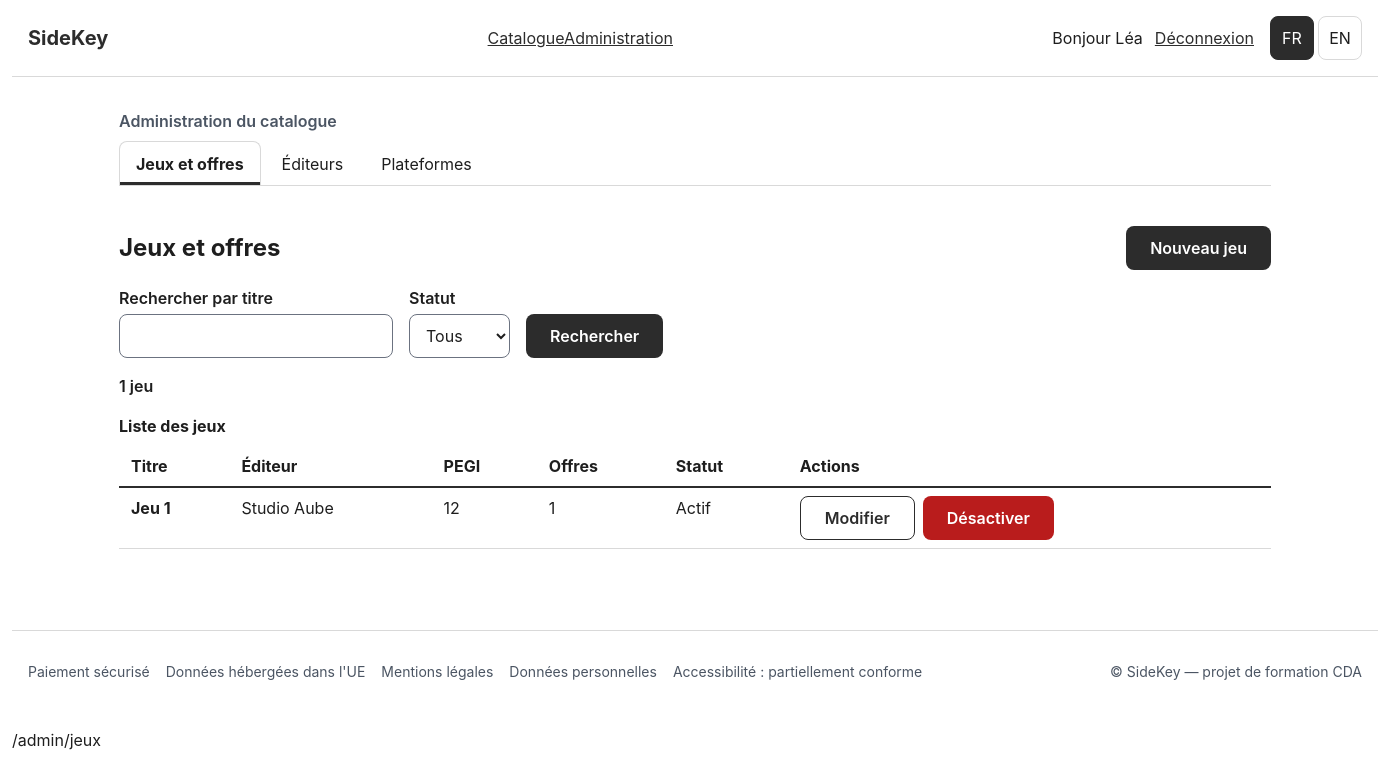
Scenario: écran E12 — liste des jeux (US-50) › cherche par titre et statut, reflète la recherche dans l’URL et la transmet à l’API
This screenshot has width=1378, height=768.
Expected: the table is shown, [119,414,1271,549]
Type "  étoile " into the search field labelled "Rechercher par titre".
click(256, 336); type("  étoile ")  # box [119,314,393,358]
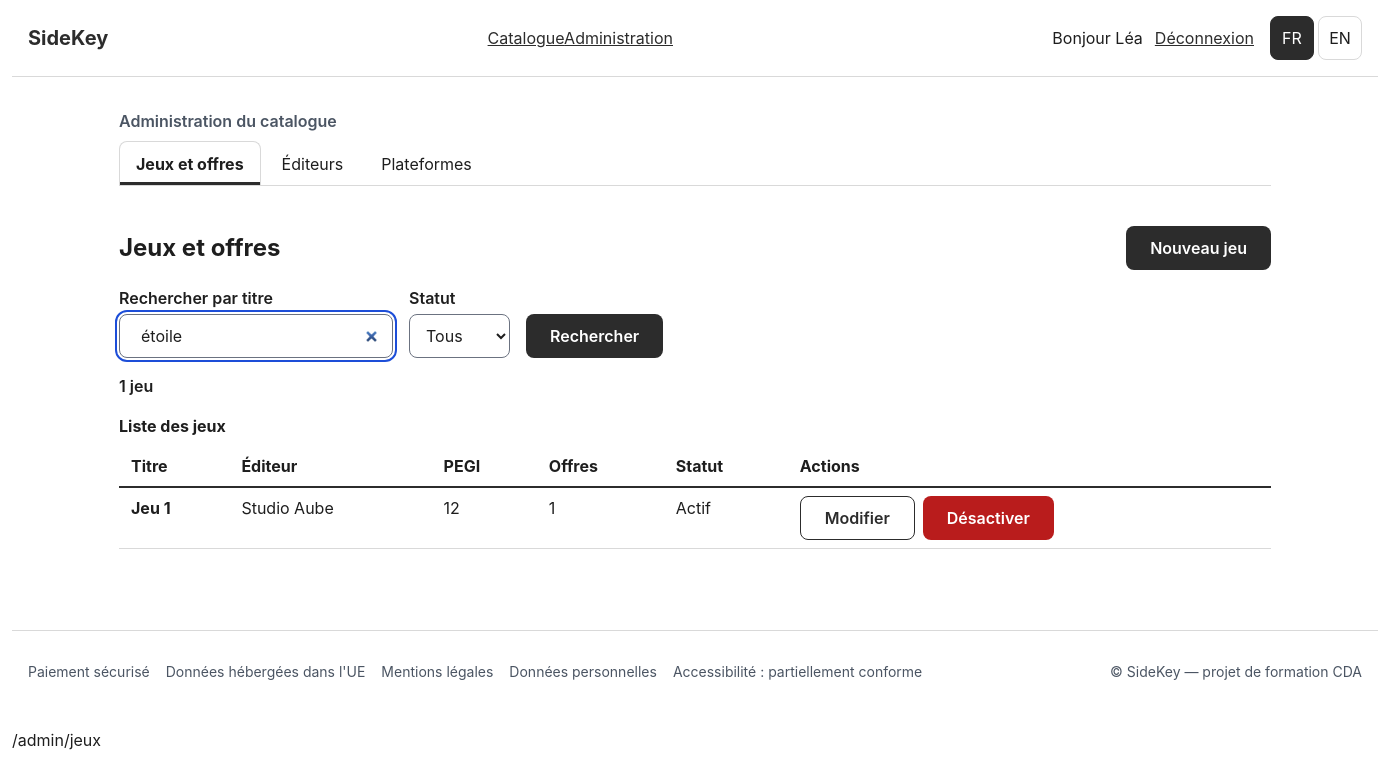
Select "Actifs" in the dropdown labelled "Statut" at (460, 336), box [409,314,510,358]
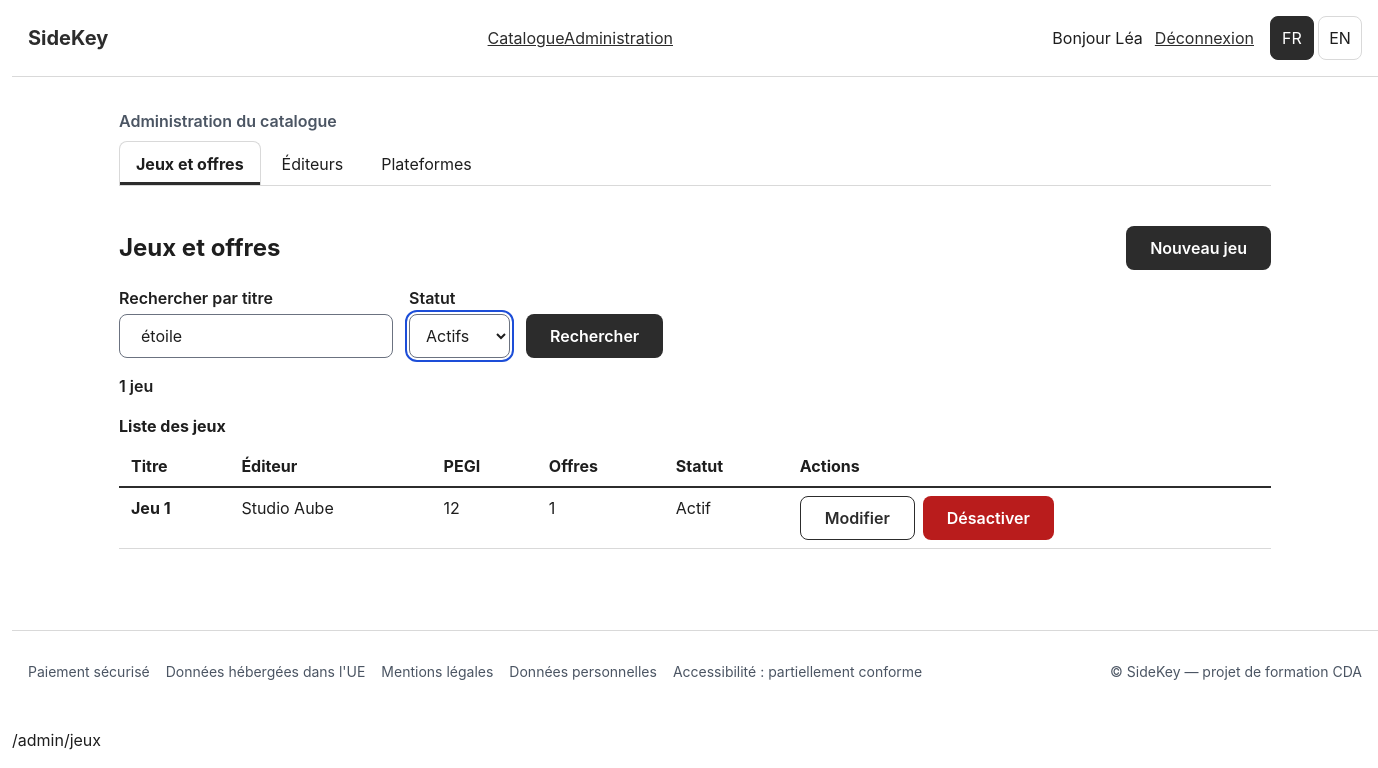
Click the button "Rechercher".
click(595, 336)  # box [526,314,663,358]
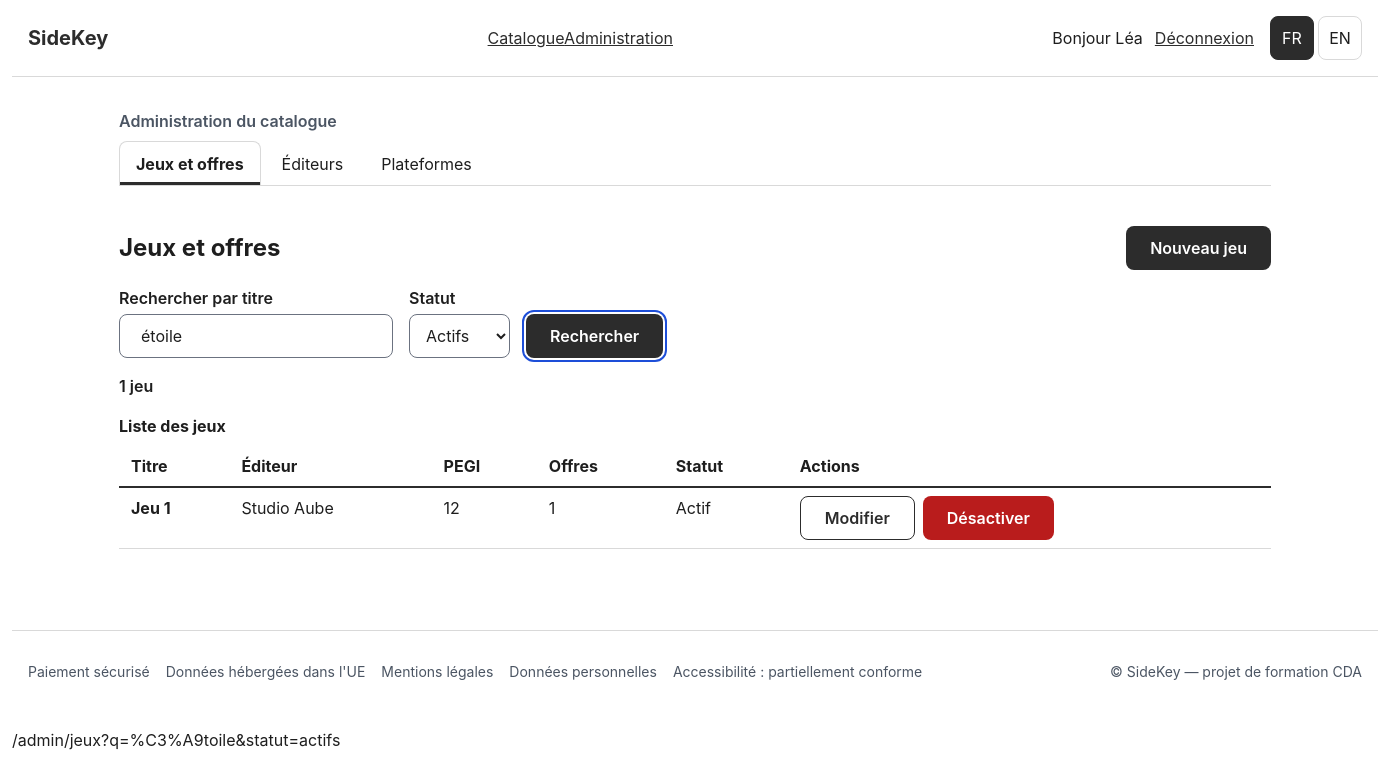
Expected: the text with test id "location" reads "/admin/jeux?q=%C3%A9toile&statut=actifs", [12,730,340,750]
